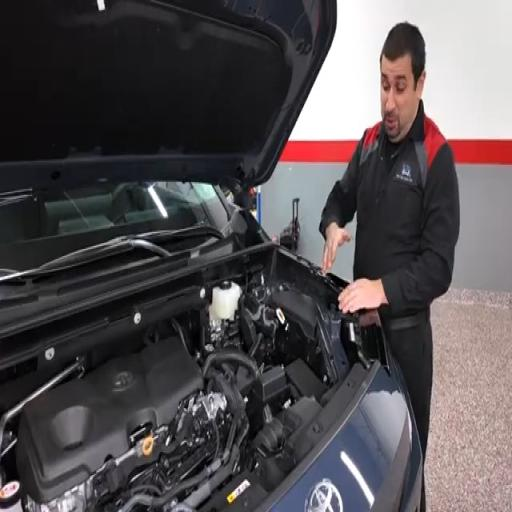bumper: (265, 367, 422, 511)
emblem: (305, 480, 343, 511), (114, 372, 134, 391)
hood: (0, 0, 335, 190)
window: (0, 183, 228, 267)
windshield: (0, 183, 228, 273)
